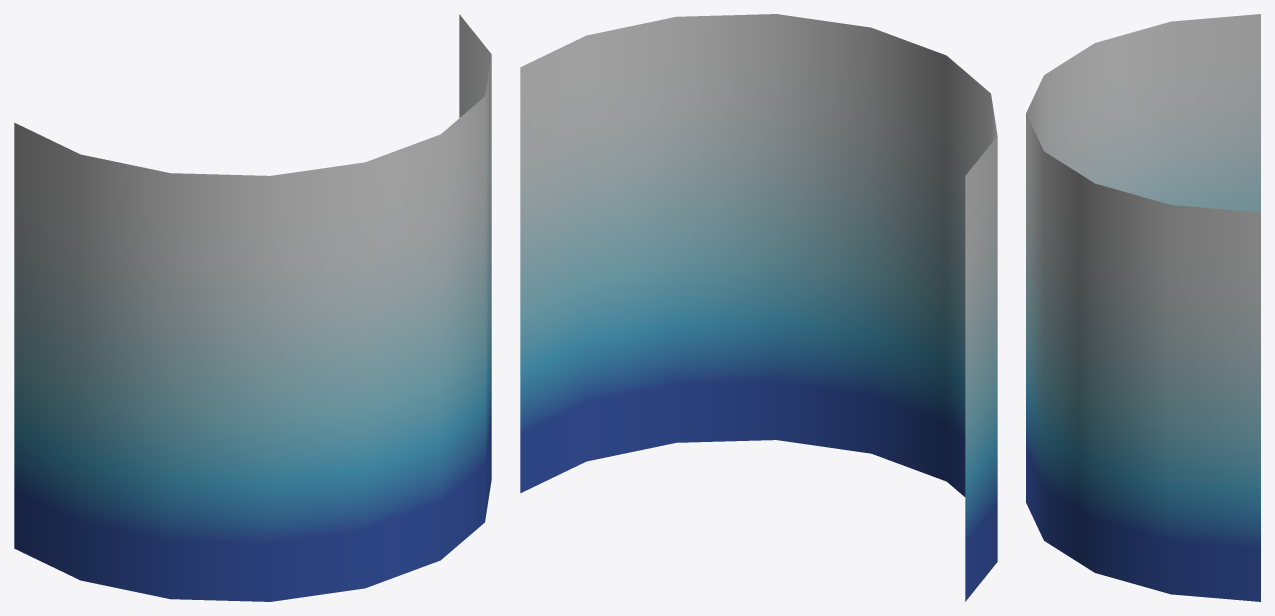
The model's file is Sky.FBX.
3 views of the same model, side by side, from view 1: azimuth 30°, elevation 25°; view 2: azimuth 150°, elevation 25°; view 3: azimuth 270°, elevation 25° (orthographic). The views are drawn at different scales.
Visible parts, largest first — view 1: Sky; view 2: Sky; view 3: Sky.
Part boxes in pixels (<box>): Sky: <box>14,14,491,601</box>; Sky: <box>520,14,997,601</box>; Sky: <box>1026,14,1260,601</box>.
Size of the model in its own units: 8096 by 7407 by 4048.
